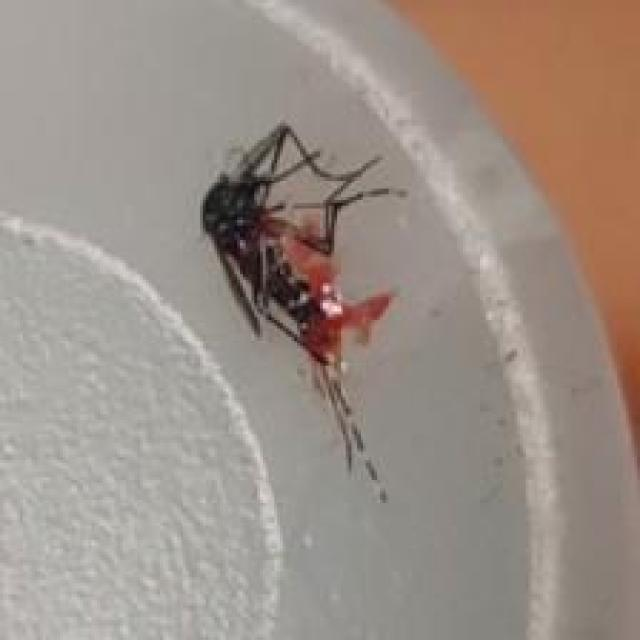Aedes albopictus: (199, 122, 407, 504)
